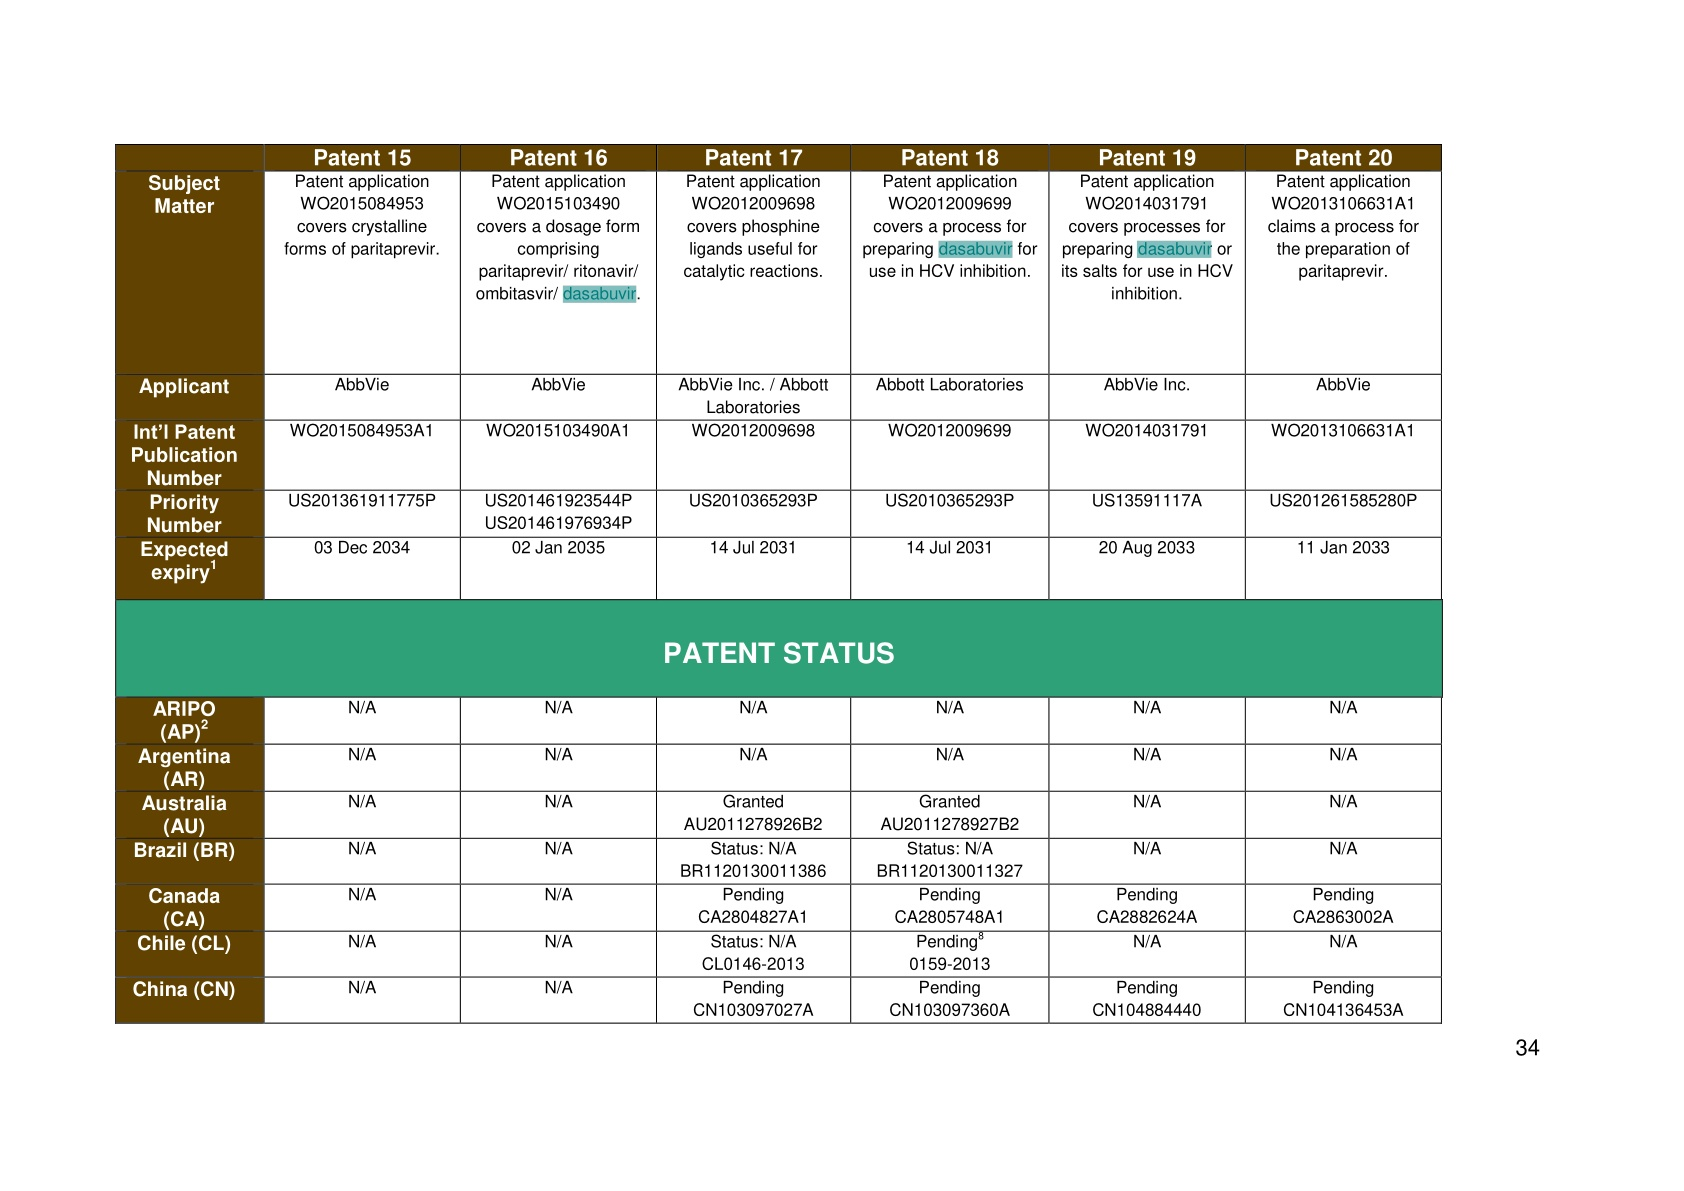merged_cells: (113, 143, 1443, 1025)
